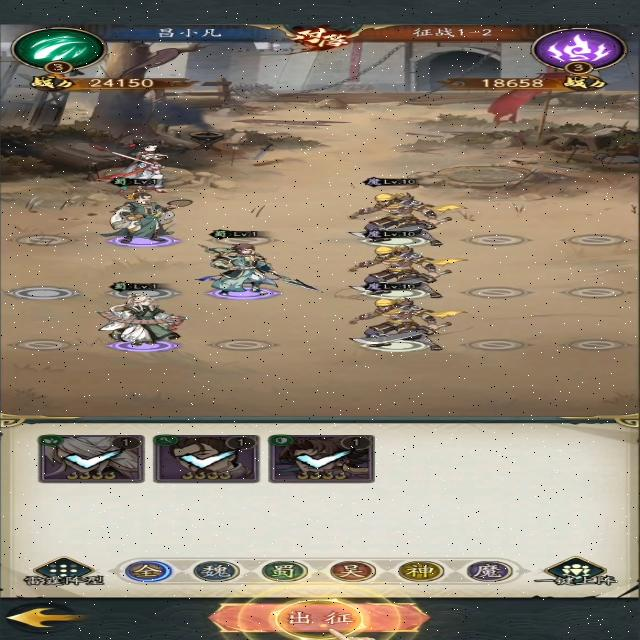hint-guide: (209, 583, 435, 640)
navigation-myHeroes: (262, 432, 381, 485), (34, 433, 147, 485), (148, 433, 260, 484), (34, 433, 147, 483), (152, 435, 262, 483), (266, 434, 373, 483)
operation-back: (0, 600, 94, 632)
operation-camp: (124, 559, 174, 583), (465, 560, 512, 582), (260, 560, 307, 582), (397, 560, 444, 582), (329, 561, 376, 582), (193, 561, 239, 582)
operation-confirm: (212, 603, 426, 632)
operation-deployment: (20, 556, 107, 588)
operation-oneKeyDeployment: (533, 554, 621, 588)
